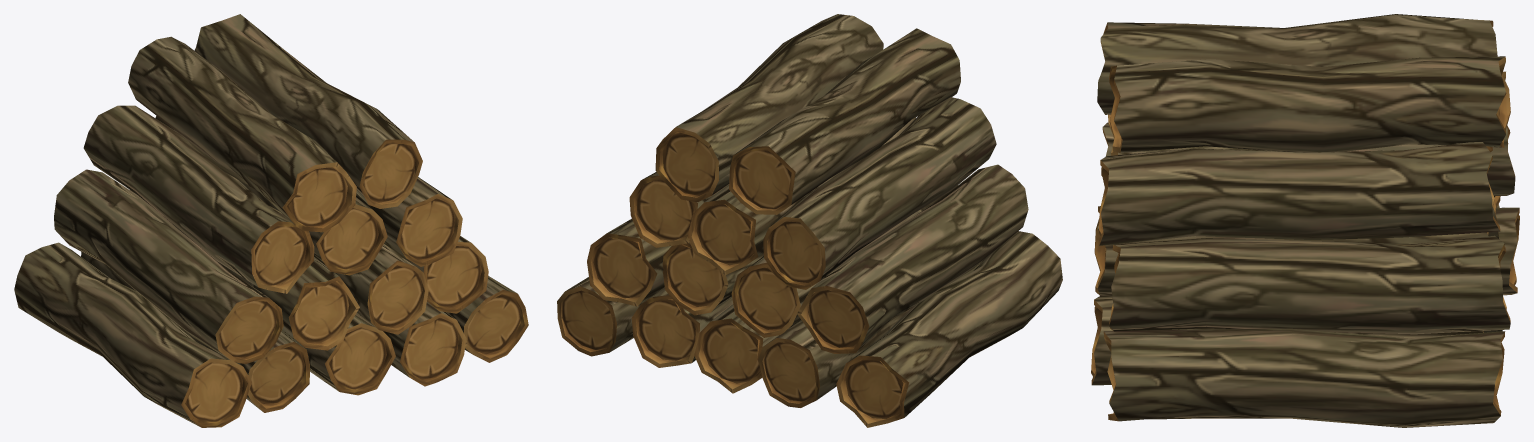
The model's file is Pile01.fbx.
The picture shows the model from 3 angles, left to right: view 1: azimuth 30°, elevation 25°; view 2: azimuth 150°, elevation 25°; view 3: azimuth 270°, elevation 25°; orthographic projection. The views are drawn at different scales.
Parts seen in each view (by area): view 1: Pile01_LOD0; view 2: Pile01_LOD0; view 3: Pile01_LOD0.
Boxes of the visible parts, <box> form: Pile01_LOD0: <box>14,14,528,427</box>; Pile01_LOD0: <box>557,14,1062,427</box>; Pile01_LOD0: <box>1091,14,1519,427</box>.
Size of what is drawn, in the model's own units: 55.9 by 38.92 by 49.77.
